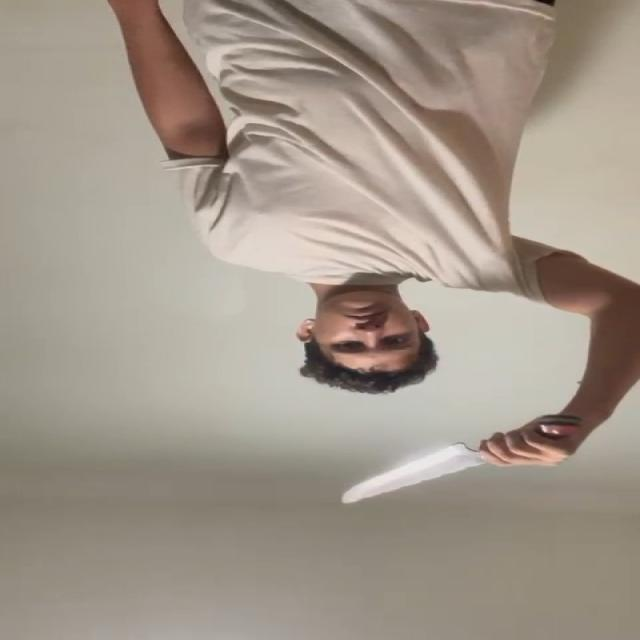knife: (346, 442, 476, 506)
